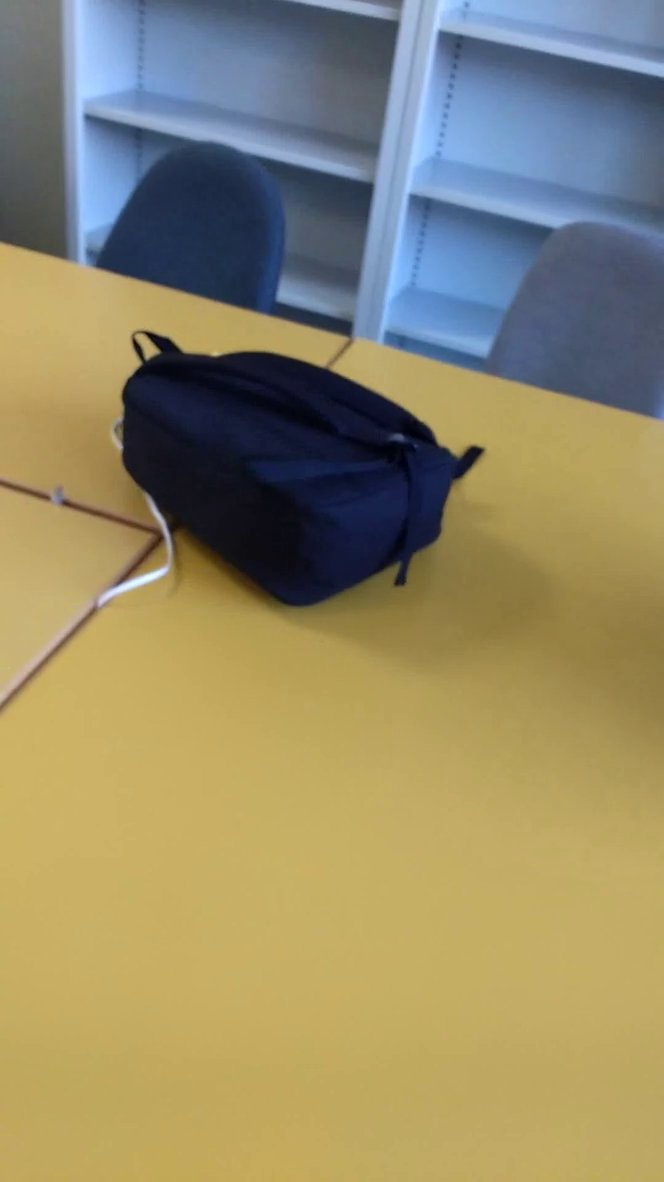bag: (88, 316, 519, 622)
chair: (85, 134, 320, 358), (476, 200, 664, 452)
